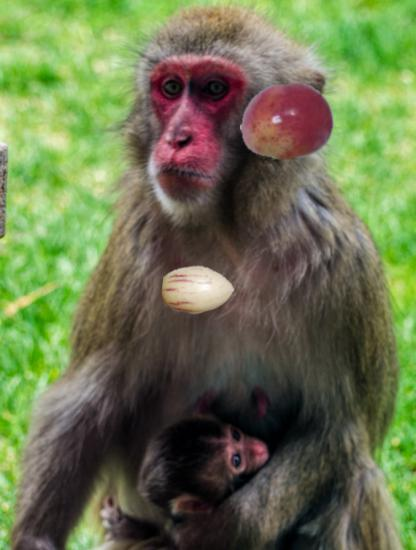Cherry: (240, 74, 335, 169)
Pepino: (162, 254, 234, 326)
